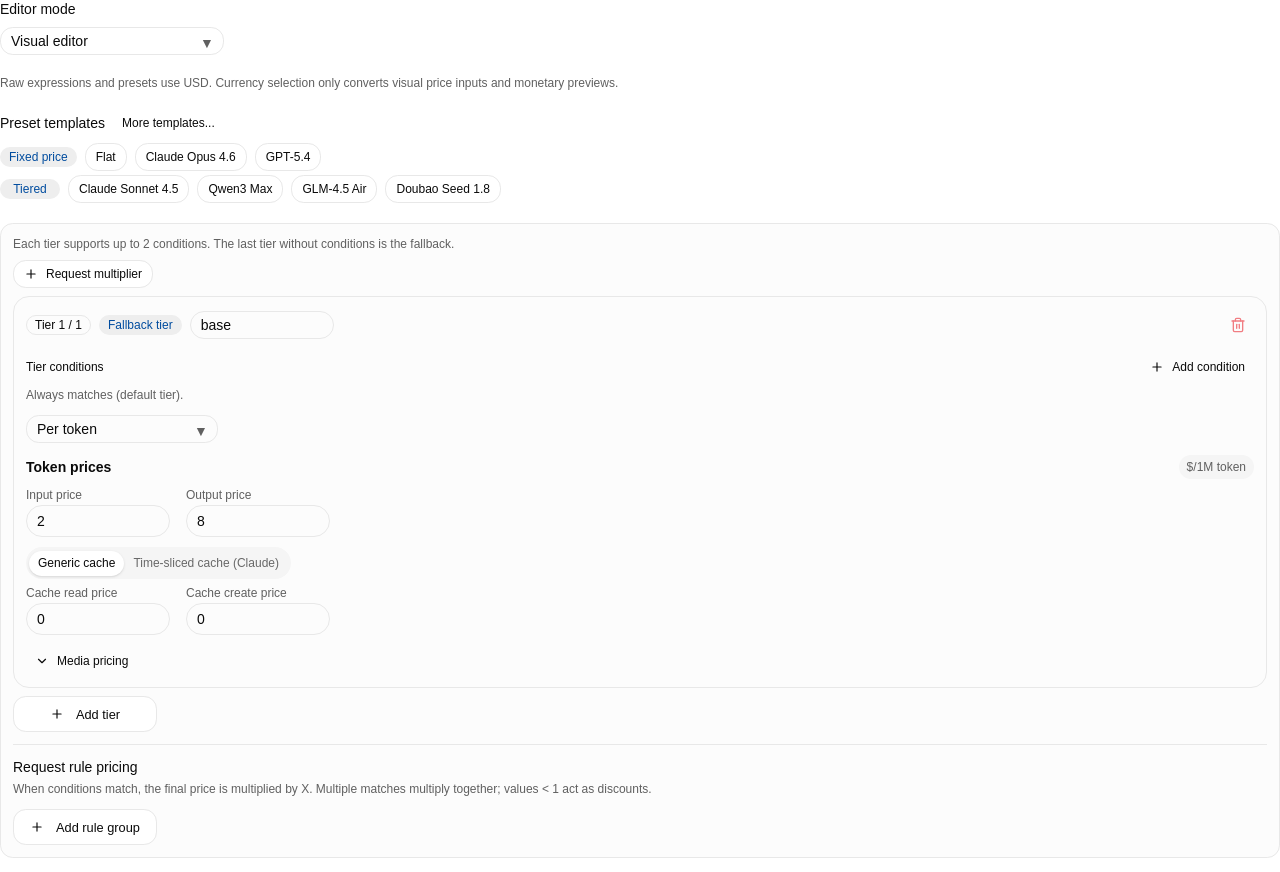
visual time billing editor › seeds request-field resolution tiers from a preset and opens them visually
Click the button "More templates...".
click(168, 123)  # box [113,111,224,135]
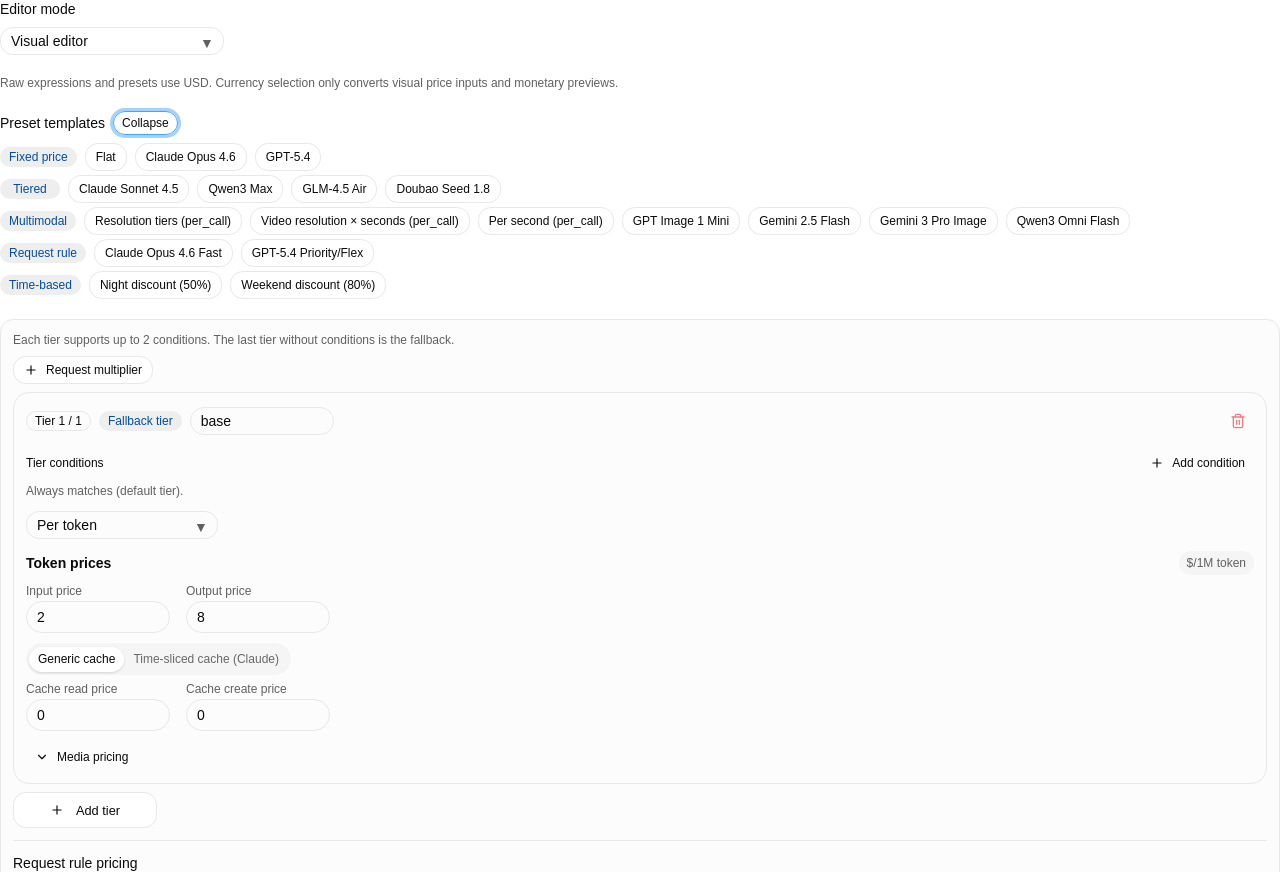
Click the button "Resolution tiers (per_call)".
click(163, 221)  # box [84,207,242,235]
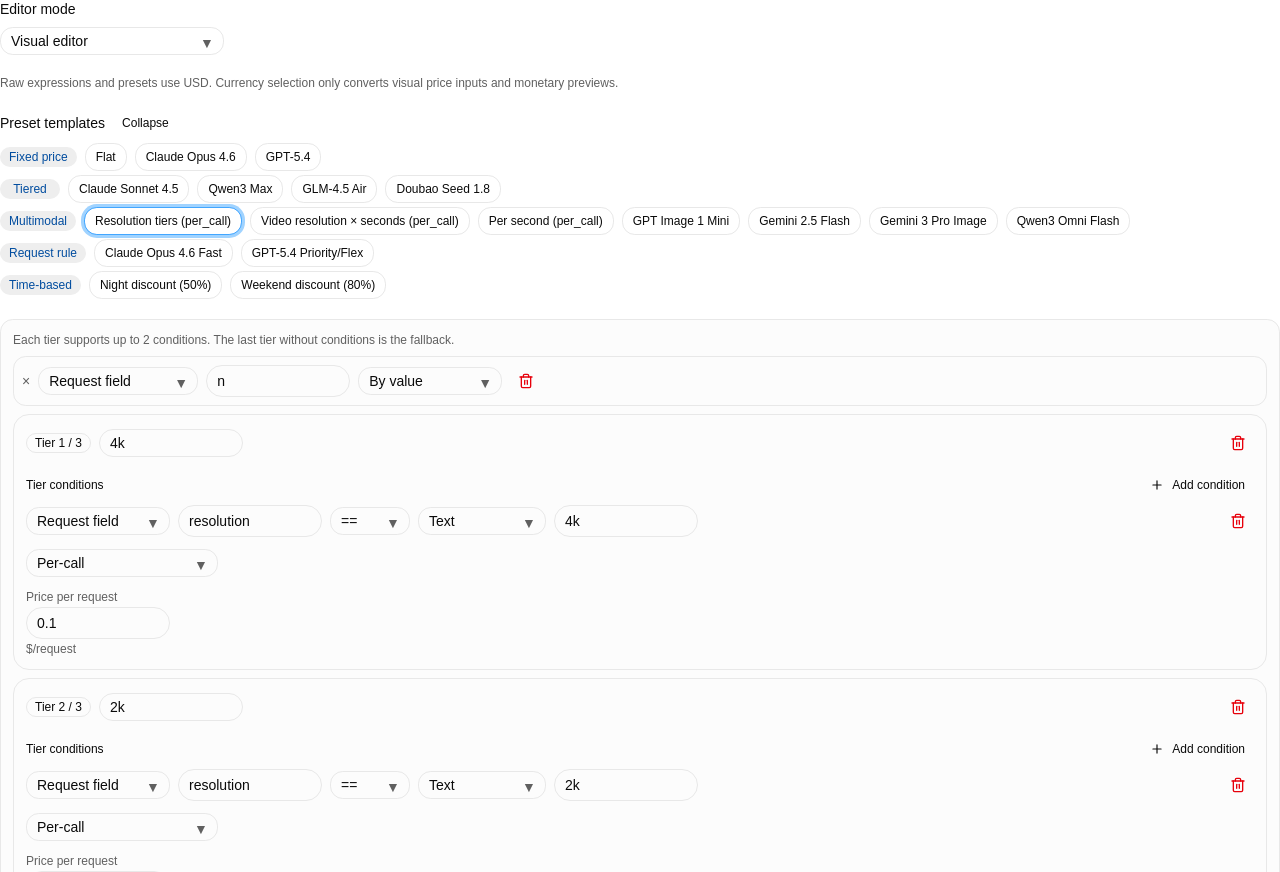
Expected: the dropdown named "Request multiplier mode" shows "By value", [358,367,502,395]
Expected: the 1st field named "Request field path" holds "n", [206,365,350,397]
